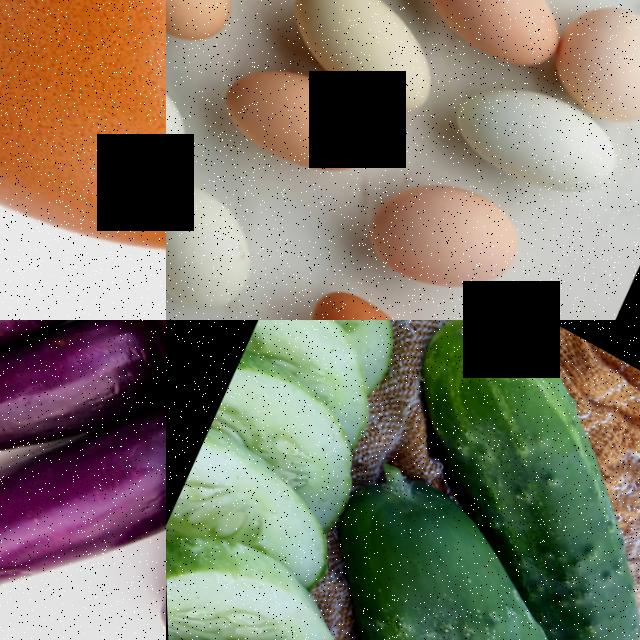cucumber: (254, 440, 640, 640), (373, 320, 640, 608)
egg_: (0, 0, 166, 320), (436, 42, 632, 216), (349, 138, 535, 319), (207, 31, 389, 196), (267, 0, 461, 125), (166, 150, 276, 320), (387, 0, 578, 74), (537, 0, 640, 133), (275, 265, 463, 320), (166, 16, 206, 188)
eggplant: (0, 424, 131, 640)
